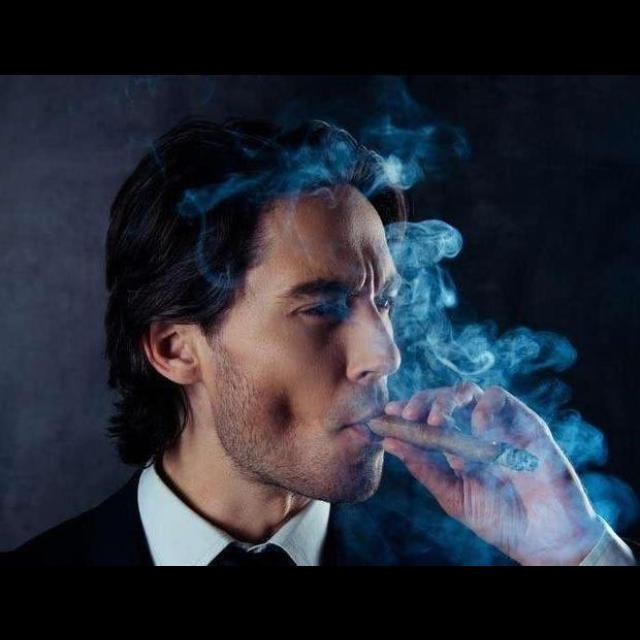rokok: (370, 407, 544, 489)
